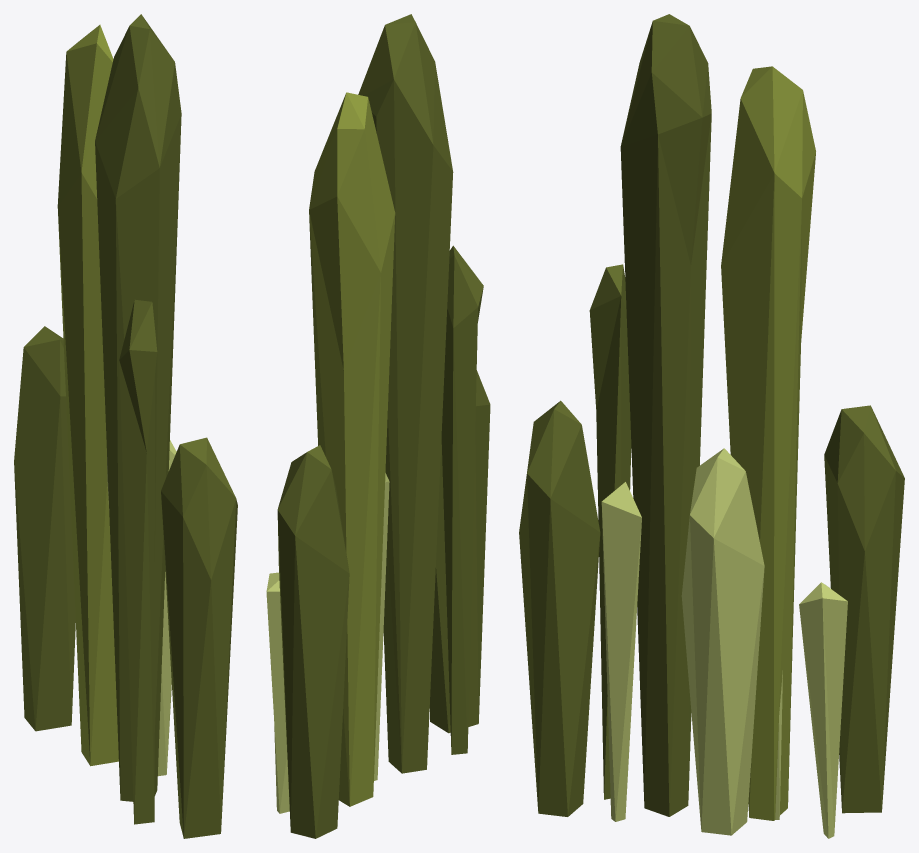
Rendered from ea_swamp_grass_01e_pre__17__lev1.glb.
The picture shows the model from 3 angles, left to right: view 1: azimuth 30°, elevation 25°; view 2: azimuth 150°, elevation 25°; view 3: azimuth 270°, elevation 25°; orthographic projection. The views are drawn at different scales.
Parts seen in each view (by area): view 1: ea_swamp_grass_01e_pre__17__lev1; view 2: ea_swamp_grass_01e_pre__17__lev1; view 3: ea_swamp_grass_01e_pre__17__lev1.
Part boxes in pixels (<box>): ea_swamp_grass_01e_pre__17__lev1: <box>14,14,237,838</box>; ea_swamp_grass_01e_pre__17__lev1: <box>266,14,490,838</box>; ea_swamp_grass_01e_pre__17__lev1: <box>519,14,904,838</box>.
Size of the model in its own units: 0.4132 by 2.69 by 1.19.
Materials: 1 (1 with a texture image).
